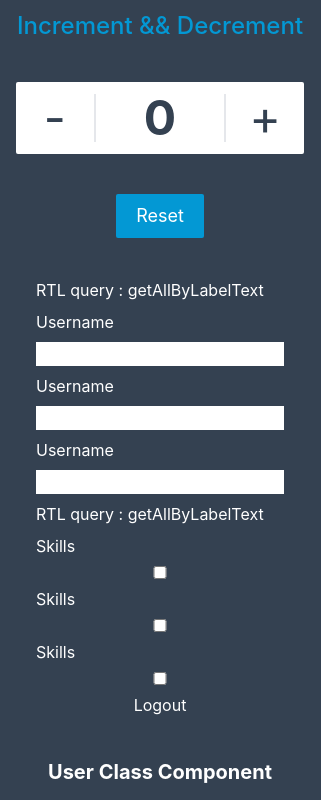
it: queryBy Test Case
Click the button "Logout": (160, 704) [36,692,284,716]
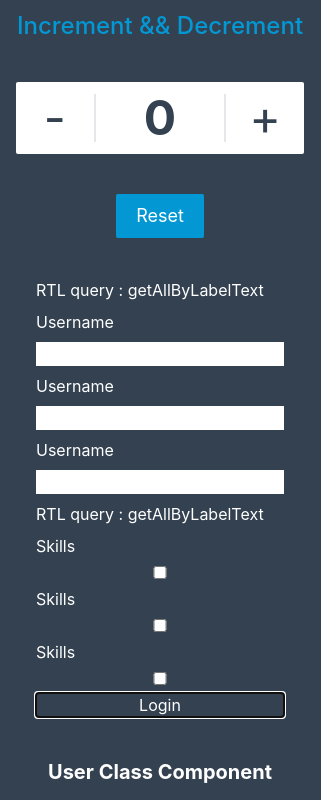
expect the button "Login" is shown: met, box [36,692,284,716]
